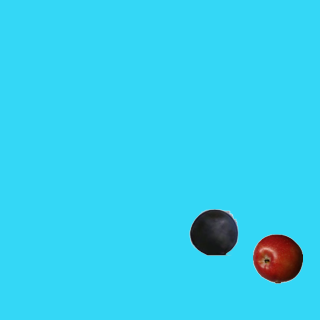Apple Braeburn: (252, 233, 302, 283)
Grape Blue: (188, 206, 238, 256)
